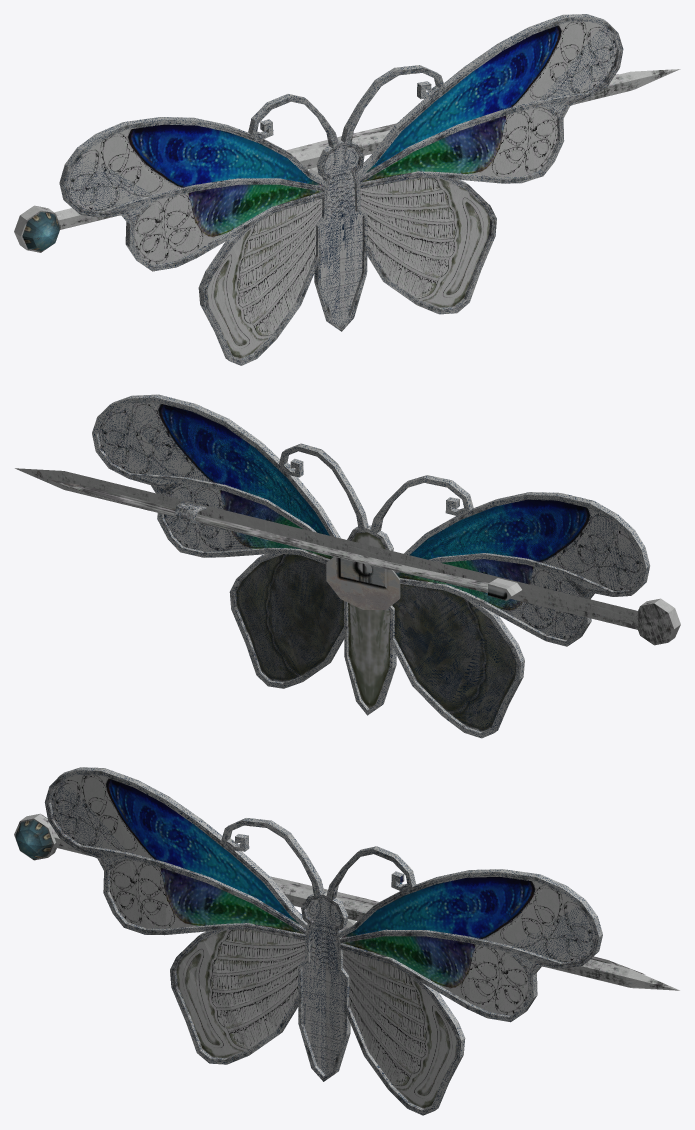
Rendered from butterfly+jewelry.dae.
3 renders of one model, top to bottom at view 1: azimuth 30°, elevation 25°; view 2: azimuth 150°, elevation 25°; view 3: azimuth 330°, elevation 25°, orthographic.
Parts seen in each view (by area): view 1: skp5B89 (×14); view 2: skp5B89 (×13); view 3: skp5B89 (×13).
Part boxes in pixels (bbox=[...]): skp5B89 (×14): bbox=[14, 14, 680, 365]; skp5B89 (×13): bbox=[15, 394, 680, 738]; skp5B89 (×13): bbox=[15, 767, 679, 1115].
Size of the model in its own units: 8.66 by 0.6861 by 3.31.
